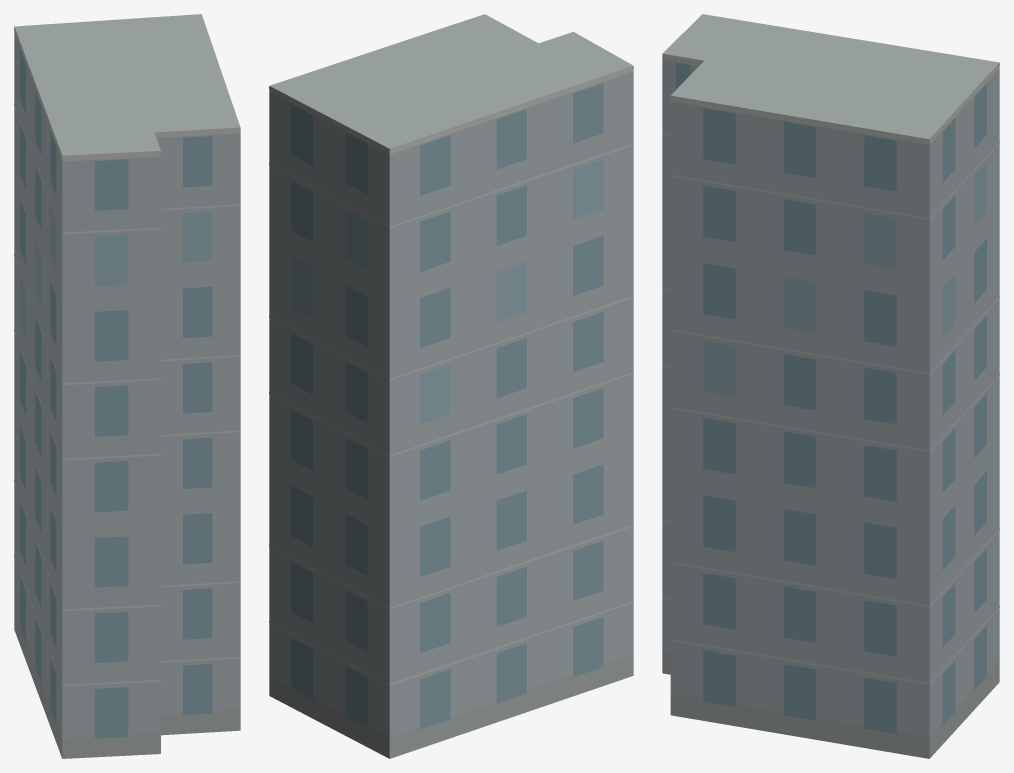
Rendered from survey-upis-32868880.glb.
3 views of the same model, side by side, from view 1: azimuth 30°, elevation 25°; view 2: azimuth 150°, elevation 25°; view 3: azimuth 270°, elevation 25° (orthographic). The views are drawn at different scales.
Parts seen in each view (by area): view 1: survey-upis-32868880.tmp; view 2: survey-upis-32868880.tmp; view 3: survey-upis-32868880.tmp.
Boxes of the visible parts, left/top/right/bottom form: survey-upis-32868880.tmp: left=14, top=14, right=240, bottom=758; survey-upis-32868880.tmp: left=269, top=14, right=633, bottom=758; survey-upis-32868880.tmp: left=662, top=14, right=999, bottom=758.
Size of the model in its own units: 11.14 by 25.65 by 12.68.
